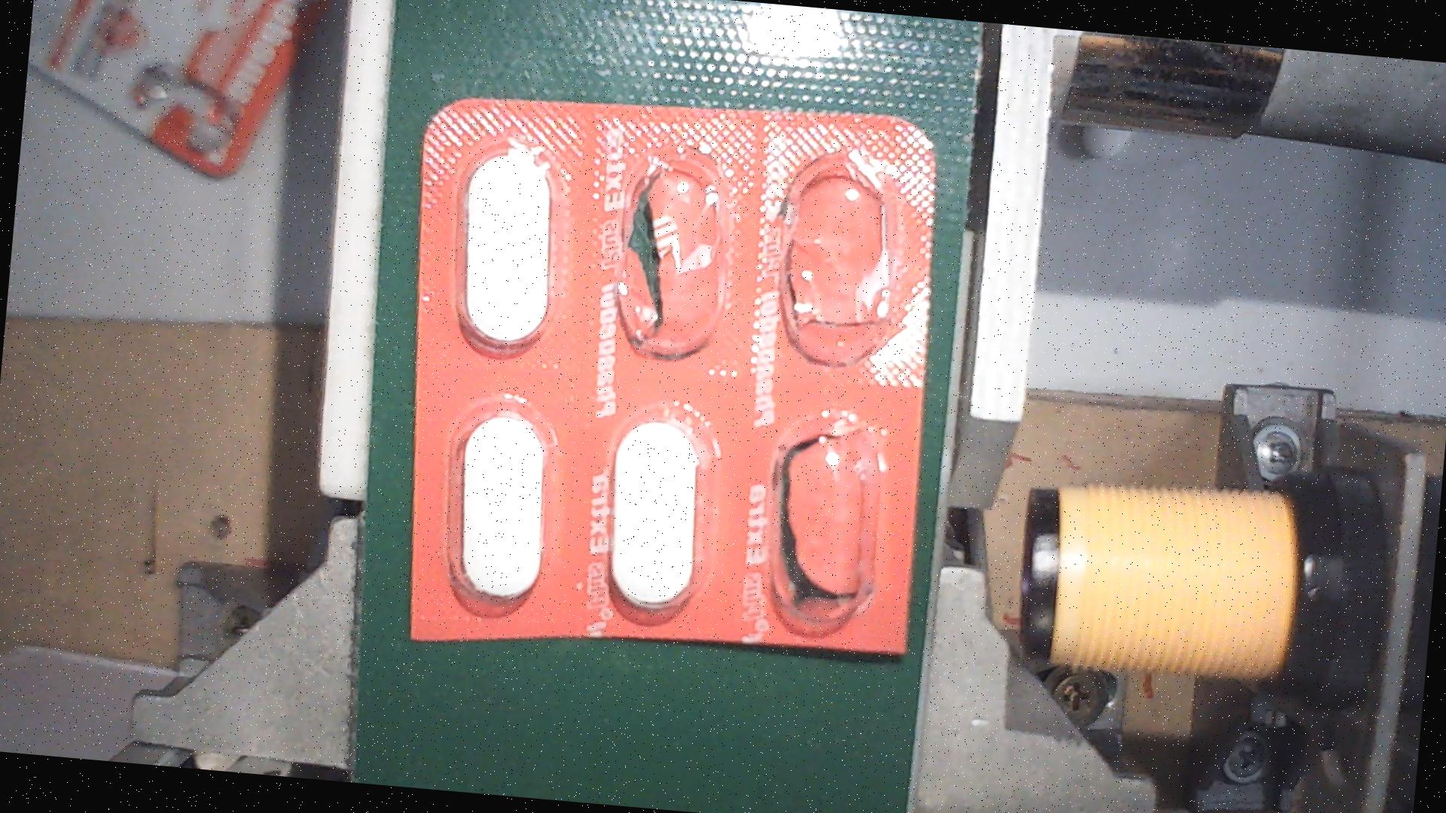Empty: (774, 151, 909, 373), (600, 140, 735, 362), (758, 415, 892, 637)
Full: (431, 395, 566, 617), (437, 138, 572, 359), (586, 402, 720, 624)
